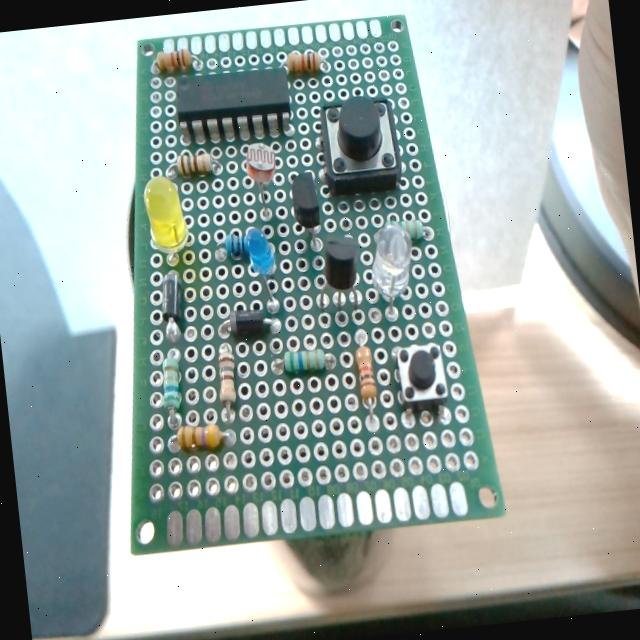IC: (173, 64, 293, 143)
cds: (236, 134, 288, 226)
diode: (155, 268, 188, 348), (218, 304, 282, 338)
led: (364, 219, 418, 321), (140, 175, 193, 269), (242, 225, 282, 313)
resistor: (212, 343, 240, 422), (354, 343, 381, 419), (158, 351, 186, 422), (173, 421, 223, 453), (282, 346, 326, 374), (171, 151, 215, 179), (155, 46, 193, 74), (389, 217, 424, 244), (286, 50, 321, 75)
switch: (316, 93, 404, 198), (392, 341, 450, 414)
transistor: (314, 234, 364, 314), (289, 171, 324, 247)
